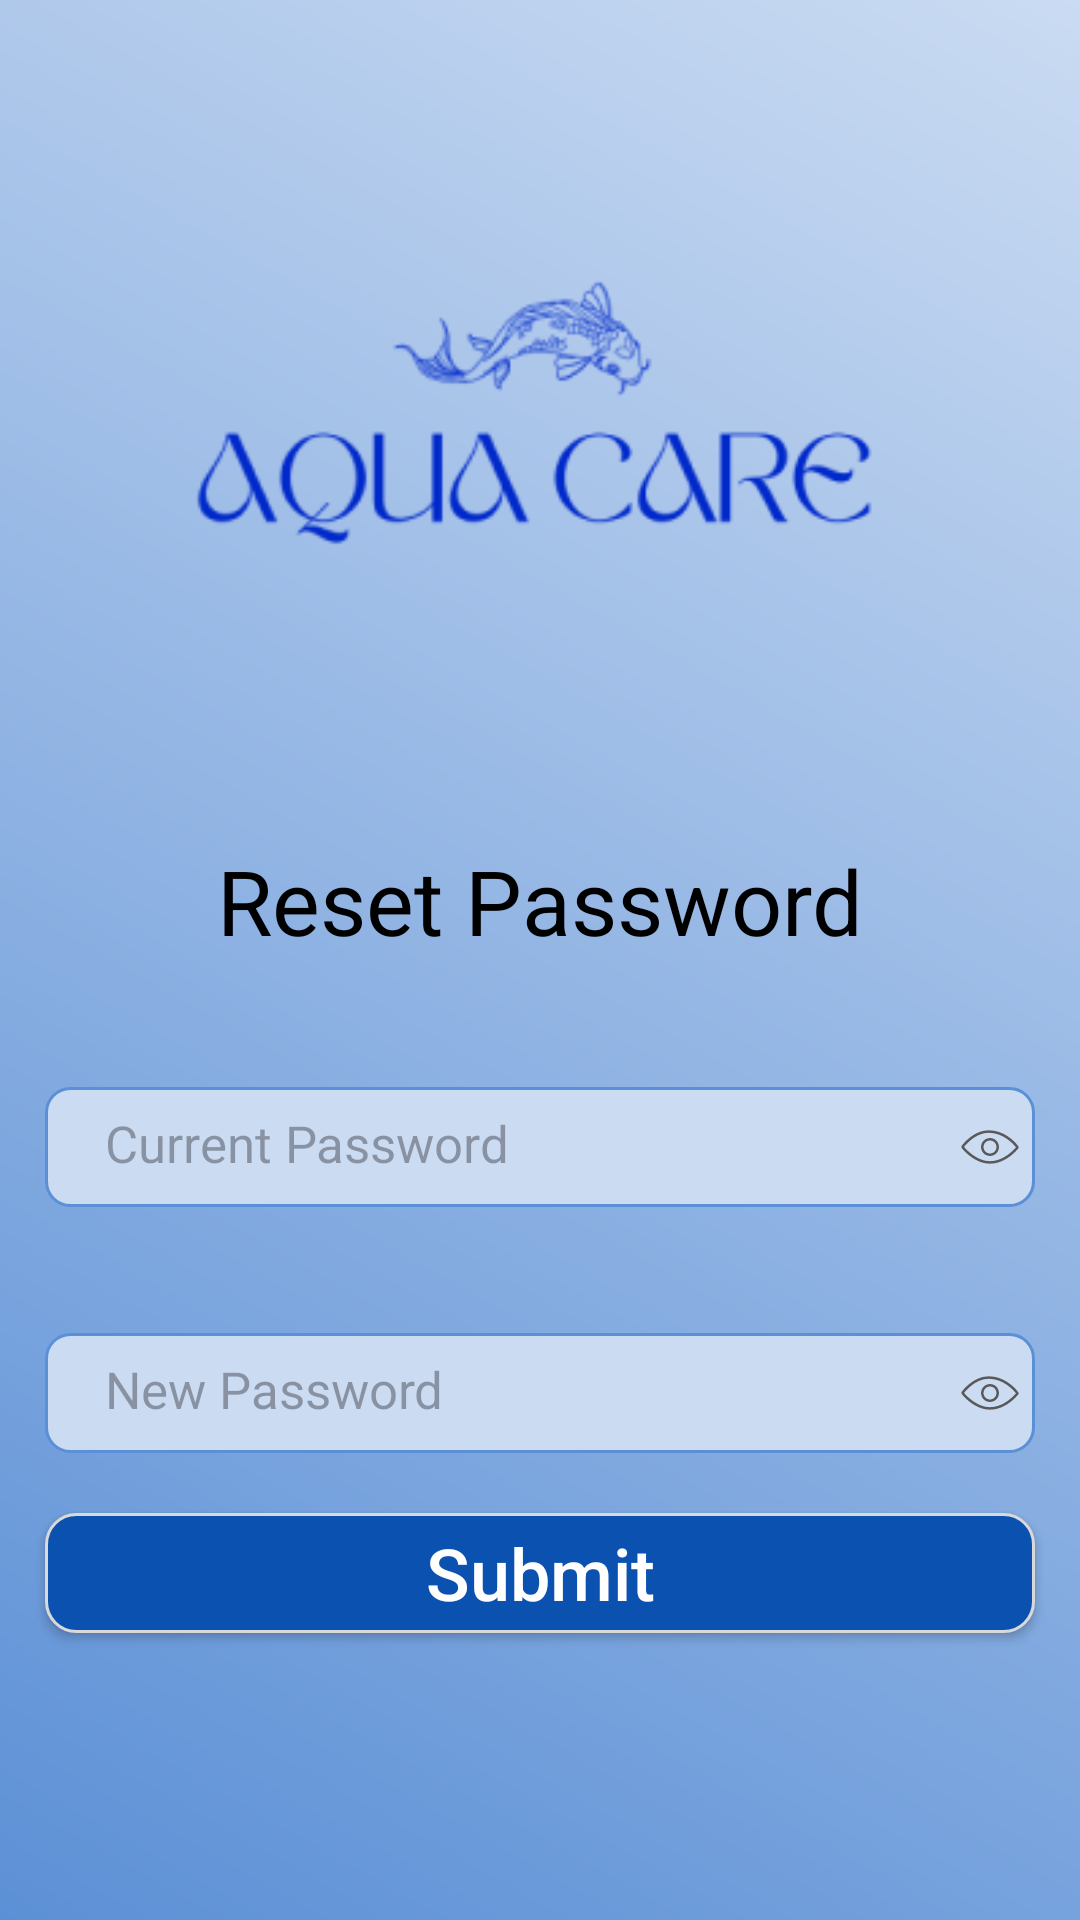

Where to tap for icons on this 1080x1920 app screen, as [x,y]:
password eye: [990,1147], [990,1393]
